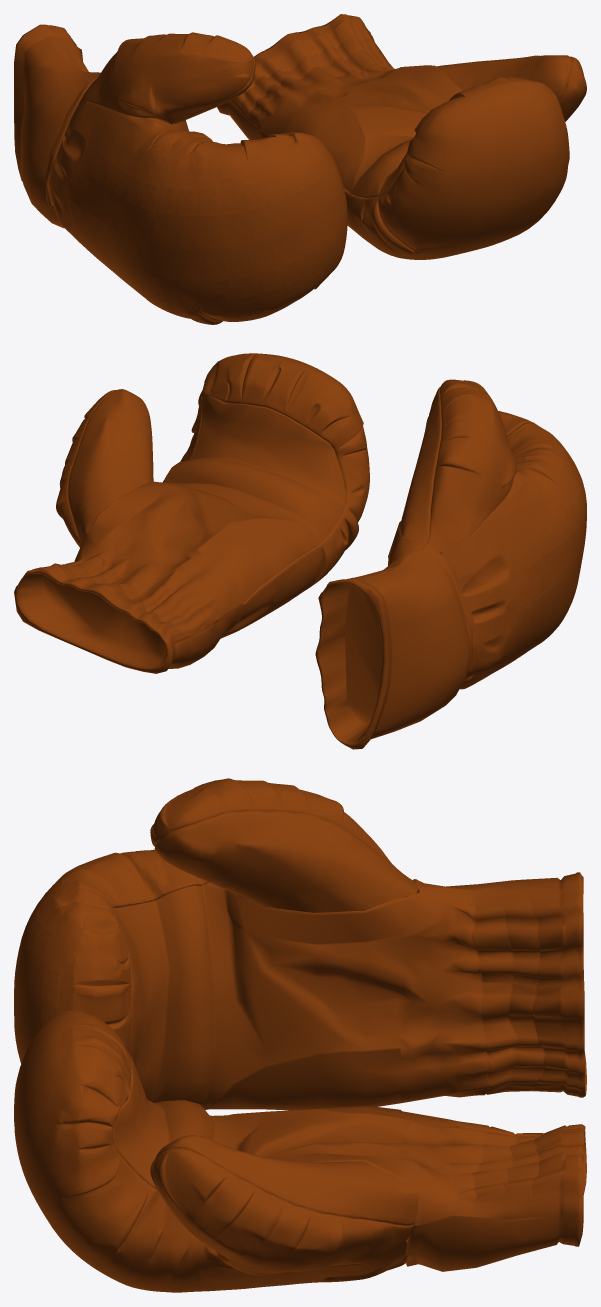
The model's file is Gloves N090709.fbx.
3 renders of one model, top to bottom at view 1: azimuth 30°, elevation 25°; view 2: azimuth 150°, elevation 25°; view 3: azimuth 270°, elevation 25°, orthographic. The views are drawn at different scales.
Visible parts, largest first — view 1: sub01, sub02; view 2: sub01, sub02; view 3: sub01, sub02.
Part boxes in pixels (box(x1,y1,x2,y2)): sub01: box(14, 14, 586, 324); sub02: box(50, 95, 347, 324); sub01: box(14, 353, 586, 749); sub02: box(444, 411, 586, 689); sub01: box(14, 778, 586, 1292); sub02: box(14, 849, 370, 1109).
Bounding box in the file's own units: 27.46 × 14.45 × 21.76.
